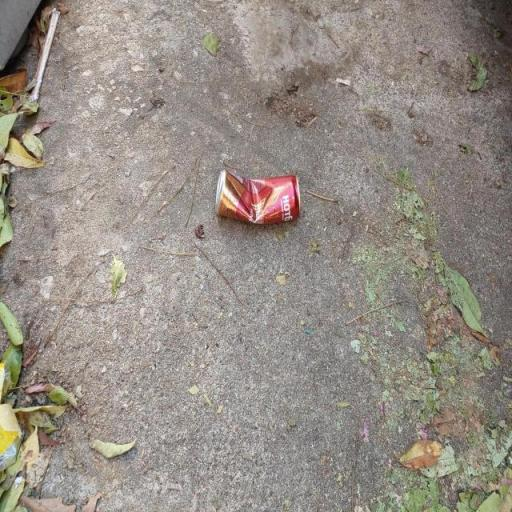metal: (198, 145, 312, 237)
